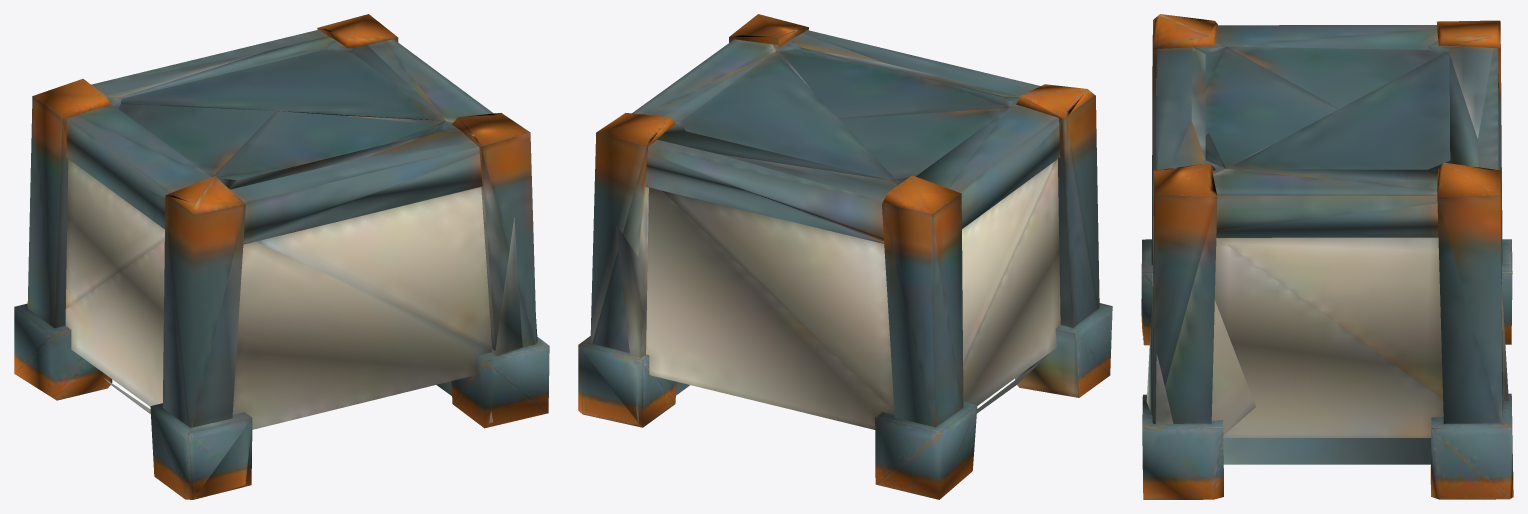
Rendered from recovery_crate-lod0.5bcfb9ef23cc.glb.
3 renders of one model, left to right at view 1: azimuth 30°, elevation 25°; view 2: azimuth 150°, elevation 25°; view 3: azimuth 270°, elevation 25°, orthographic. The views are drawn at different scales.
Visible parts, largest first — view 1: geometry_0; view 2: geometry_0; view 3: geometry_0.
Boxes of the visible parts, bbox=[...] form: geometry_0: bbox=[14, 14, 549, 499]; geometry_0: bbox=[578, 14, 1112, 499]; geometry_0: bbox=[1141, 14, 1513, 499].
Size of the model in its own units: 1 by 0.7593 by 0.8343.
1 material, 1 textured.
